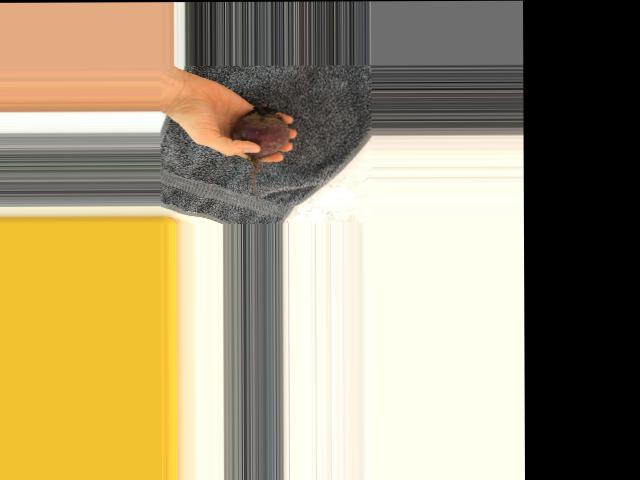beet: (232, 105, 290, 201)
